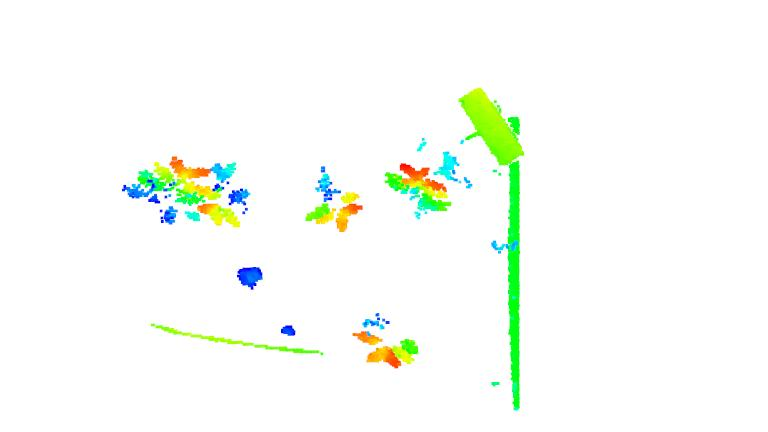chickpea: (121, 149, 241, 237), (382, 140, 474, 222), (303, 164, 375, 239), (215, 150, 265, 215), (357, 329, 425, 375)
